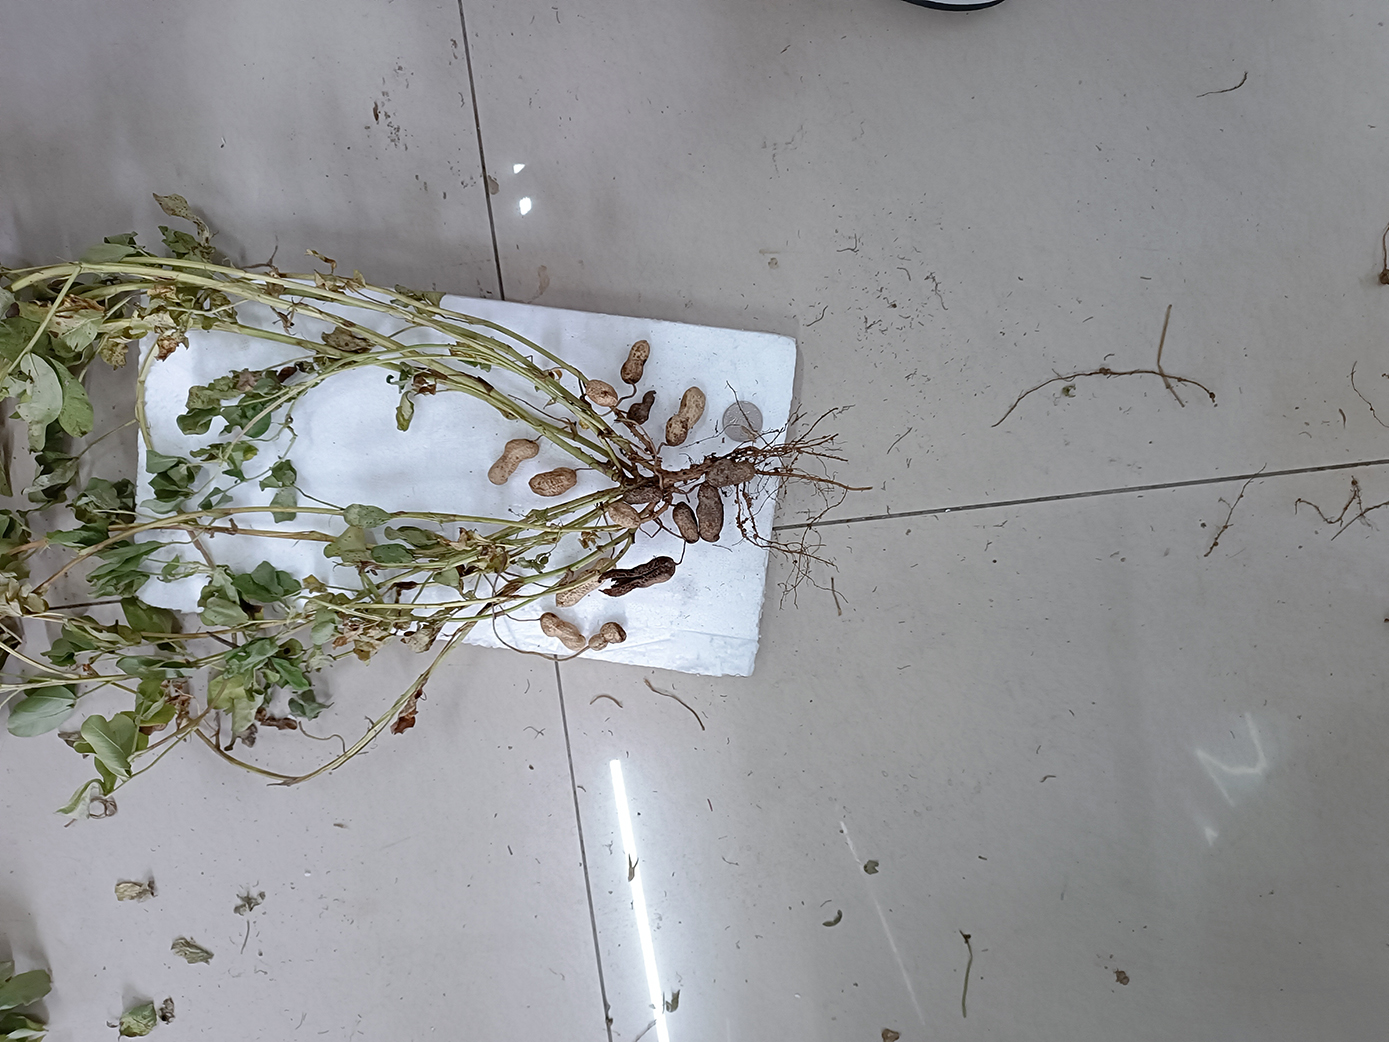h: (556, 557, 616, 607), (487, 438, 539, 485), (665, 387, 706, 445), (540, 612, 586, 652), (526, 467, 577, 499), (588, 622, 627, 653), (584, 379, 618, 407), (607, 503, 640, 529)
l: (598, 557, 675, 598), (697, 486, 724, 542), (621, 339, 650, 384), (705, 459, 755, 485), (672, 501, 699, 545), (626, 389, 657, 422), (624, 481, 662, 503)
